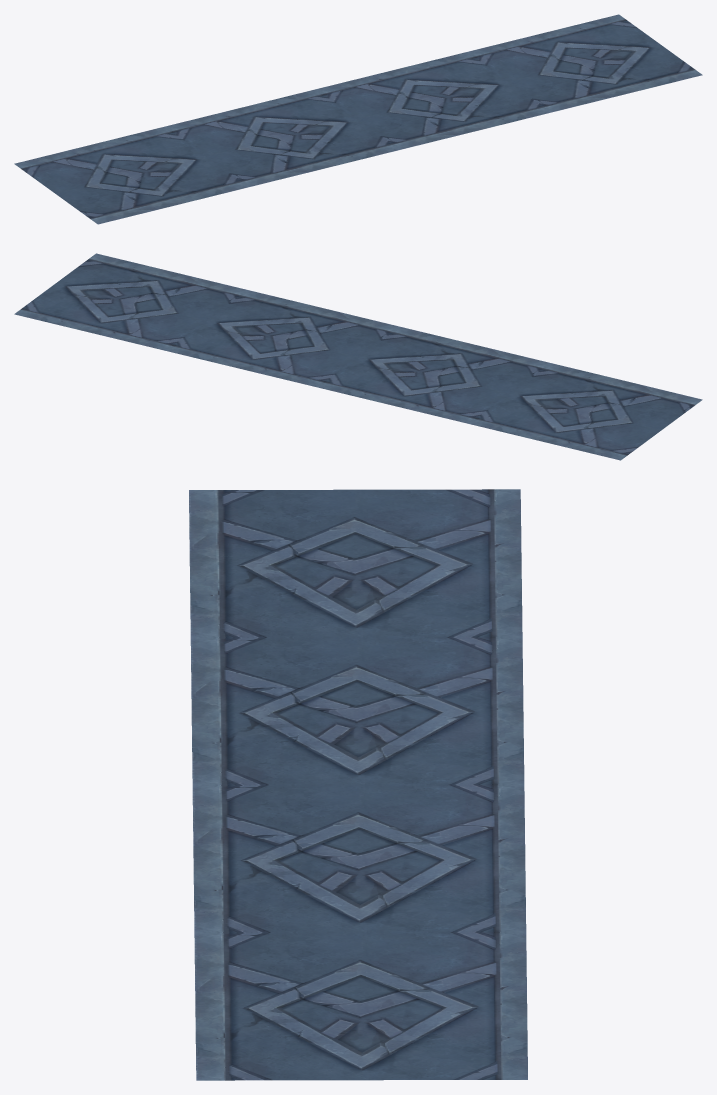
File: Area_01_4.fbx
The picture shows the model from 3 angles, top to bottom: view 1: azimuth 30°, elevation 25°; view 2: azimuth 150°, elevation 25°; view 3: azimuth 270°, elevation 25°; orthographic projection. The views are drawn at different scales.
Parts seen in each view (by area): view 1: Area_01_4; view 2: Area_01_4; view 3: Area_01_4.
Boxes of the visible parts, bbox=[...] form: Area_01_4: bbox=[14, 14, 702, 224]; Area_01_4: bbox=[14, 253, 702, 460]; Area_01_4: bbox=[189, 489, 527, 1080].
Size of the model in its own units: 2991 by 0.000874 by 725.
